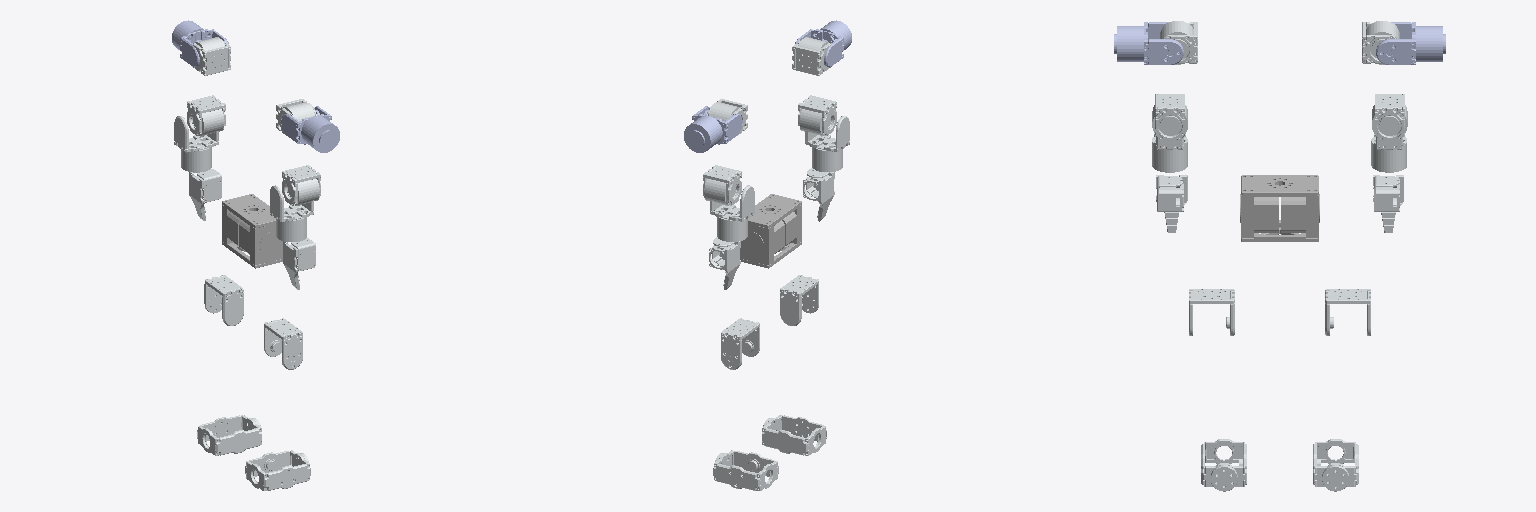
URDF robot description (hi_23dof_250401):
<?xml version="1.0" encoding="utf-8"?>
<!--
This URDF was automatically created by SolidWorks to URDF Exporter! Originally created by Stephen Brawner (brawner@gmail.com)
Commit Version: 1.6.0-4-g7f85cfe  Build Version: 1.6.7995.38578
For more information, please see http://wiki.ros.org/sw_urdf_exporter
-->
<robot name="hi_23dof_250401">
	<mujoco>
		<compiler meshdir="../meshes/" balanceinertia="true" discardvisual="false" />
	</mujoco>
	<link name="base_link">
		<inertial>
			<origin xyz="0.0259087 -0.0015142 -0.0707803" rpy="0 0 0" />
			<mass value="4.2751522" />
			<inertia ixx="0.0576049" ixy="-1.59E-05" ixz="0.0004045" iyy="0.0457651" iyz="2.6E-06" izz="0.0212488" />
		</inertial>
		<visual>
			<origin xyz="0 0 0" rpy="0 0 0" />
			<geometry>
				<mesh filename="../meshes/base_link.STL" />
			</geometry>
			<material name="">
				<color rgba="0.75294 0.75294 0.75294 1" />
			</material>
		</visual>
		<collision>
			<origin xyz="0.03 0 -0.07" rpy="0 0 0" />
			<geometry>
				<box size="0.12 0.24 0.28" />
				<!-- <mesh filename="../meshes/base_link.STL" /> -->
			</geometry>
		</collision>
	</link>

	<link name="head_link"/>
	<joint name="head_fixed_joint" type="fixed">
		<origin xyz="0 0 0.1" rpy="0 0 0" />
		<parent link="base_link" />
		<child link="head_link" />
	</joint>

<!-- waist -->
	<link name="waist_link">
		<inertial>
			<origin xyz="1.2E-06 3.4E-05 -0.049561" rpy="0 0 0" />
			<mass value="1.5958" />
			<inertia ixx="0.0027667" ixy="7.1E-06" ixz="-1E-07" iyy="0.001617" iyz="-2.6E-06" izz="0.0021703" />
		</inertial>
		<visual>
			<origin xyz="0 0 0" rpy="0 0 0" />
			<geometry>
				<mesh filename="../meshes/waist_link.STL" />
			</geometry>
			<material name="">
				<color rgba="0.75294 0.75294 0.75294 1" />
			</material>
		</visual>
		<collision>
			<origin xyz="0 0 -0.05" rpy="0 0 0" />
			<geometry>
				<box size="0.09 0.11 0.09" />
				<!-- <mesh filename="../meshes/waist_link.STL" /> -->
			</geometry>
		</collision>
	</link>
	<joint name="waist_joint" type="revolute">
		<origin xyz="-0.028589 0.0015934 0.2183" rpy="0 0 0" />
		<parent link="waist_link" />
		<child link="base_link" />
		<axis xyz="0 0 1" />
		<limit lower="-0.5" upper="0.5" effort="24" velocity="6.28" />
	</joint>
<!-- left leg -->
	<link name="l_hip_pitch_link">
		<inertial>
			<origin xyz="0.0001203 0.0399259 0" rpy="0 0 0" />
			<mass value="0.665545" />
			<inertia ixx="0.0004708" ixy="0" ixz="0" iyy="0.0004388" iyz="0" izz="0.000473" />
		</inertial>
		<visual>
			<origin xyz="0 0 0" rpy="0 0 0" />
			<geometry>
				<mesh filename="../meshes/l_hip_pitch_link.STL" />
			</geometry>
			<material name="">
				<color rgba="0.89804 0.91765 0.92941 1" />
			</material>
		</visual>
		<collision>
			<origin xyz="0 0.04 0" rpy="0 0 0" />
			<geometry>
				<box size="0.06 0.07 0.06" />
				<!-- <mesh filename="../meshes/l_hip_pitch_link.STL" /> -->
			</geometry>
		</collision>
	</link>
  	<joint name="l_hip_pitch_joint" type="revolute">
		<origin xyz="0 0.0575000000000001 -0.0553000000000014" rpy="0 0 0" />
		<parent link="waist_link" />
		<child link="l_hip_pitch_link" />
		<axis xyz="0 1 0" />
		<limit lower="-1.6" upper="1.6" effort="24" velocity="6.28" />
	</joint>
	<link name="l_hip_roll_link">
		<inertial>
			<origin xyz="-0.027804 0 -0.0756606" rpy="0 0 0" />
			<mass value="0.7871145" />
			<inertia ixx="0.0013399" ixy="0" ixz="2.98E-05" iyy="0.0015491" iyz="0" izz="0.0006846" />
		</inertial>
		<visual>
			<origin xyz="0 0 0" rpy="0 0 0" />
			<geometry>
				<mesh filename="../meshes/l_hip_roll_link.STL" />
			</geometry>
			<material name="">
				<color rgba="0.89804 0.91765 0.92941 1" />
			</material>
		</visual>
		<collision>
			<origin xyz="-0.03 0 -0.09" rpy="0 0 0" />
			<geometry>
				<box size="0.06 0.07 0.06" />
				<!-- <mesh filename="../meshes/l_hip_roll_link.STL" /> -->
			</geometry>
		</collision>
	</link>
	<joint name="l_hip_roll_joint" type="revolute">
		<origin xyz="0.02725 0.042 0" rpy="0 0 0" />
		<parent link="l_hip_pitch_link" />
		<child link="l_hip_roll_link" />
		<axis xyz="1 0 0" />
		<limit lower="-0.25" upper="0.6" effort="24" velocity="6.28" />
	</joint>
	<link name="l_thigh_link">
		<inertial>
			<origin xyz="0 -0.0018622 -0.0367228" rpy="0 0 0" />
			<mass value="0.2132463" />
			<inertia ixx="0.0003791" ixy="0" ixz="0" iyy="0.0002268" iyz="-0.0000158" izz="0.0002474" />
		</inertial>
		<visual>
			<origin xyz="0 0 0" rpy="0 0 0" />
			<geometry>
				<mesh filename="../meshes/l_thigh_link.STL" />
			</geometry>
			<material name="">
				<color rgba="0.89804 0.91765 0.92941 1" />
			</material>
		</visual>
		<collision>
			<origin xyz="0 0 -0.005" rpy="0 0 0" />
			<geometry>
				<box size="0.01 0.01 0.01" />
				<!-- <mesh filename="../meshes/l_thigh_link.STL" /> -->
			</geometry>
		</collision>
	</link>
	<joint name="l_thigh_joint" type="revolute">
		<origin xyz="-0.02725 0 -0.123" rpy="0 0 0" />
		<parent link="l_hip_roll_link" />
		<child link="l_thigh_link" />
		<axis xyz="0 0 1" />
		<limit lower="-1.2" upper="1.2" effort="24" velocity="6.28" />
	</joint>
	<link name="l_calf_link">
		<inertial>
			<origin xyz="0.0018338 -0.0030441 -0.0596583" rpy="0 0 0" />
			<mass value="1.4585536" />
			<inertia ixx="0.0055481" ixy="0.0000019" ixz="0.0001383" iyy="0.0056259" iyz="-0.0000550" izz="0.0007844" />
		</inertial>
		<visual>
			<origin xyz="0 0 0" rpy="0 0 0" />
			<geometry>
				<mesh filename="../meshes/l_calf_link.STL" />
			</geometry>
			<material name="">
				<color rgba="0.89804 0.91765 0.92941 1" />
			</material>
		</visual>
		<collision>
			<origin xyz="0 0 -0.07" rpy="0 0 0" />
			<geometry>
				<box size="0.06 0.06 0.21" />
				<!-- <mesh filename="../meshes/l_calf_link.STL" /> -->
			</geometry>
		</collision>
	</link>
	<joint name="l_calf_joint" type="revolute">
		<origin xyz="0 0.00375 -0.069" rpy="0 0 0" />
		<parent link="l_thigh_link" />
		<child link="l_calf_link" />
		<axis xyz="0 1 0" />
		<limit lower="0" upper="2.23" effort="24" velocity="6.28" />
	</joint>
	<link name="l_ankle_pitch_link">
		<inertial>
			<origin xyz="0 -0.0085004 0" rpy="0 0 0" />
			<mass value="0.0089231" />
			<inertia ixx="2E-07" ixy="0" ixz="0" iyy="1E-06" iyz="0" izz="1E-06" />
		</inertial>
		<visual>
			<origin xyz="0 0 0" rpy="0 0 0" />
			<geometry>
				<mesh filename="../meshes/l_ankle_pitch_link.STL" />
			</geometry>
			<material name="">
				<color rgba="0.89804 0.91765 0.92941 1" />
			</material>
		</visual>
		<collision>
			<origin xyz="0 0 0" rpy="0 0 0" />
			<geometry>
				<box size="0.01 0.01 0.01" />
				<!-- <mesh filename="../meshes/l_ankle_pitch_link.STL" /> -->
			</geometry>
		</collision>
	</link>
	<joint name="l_ankle_pitch_joint" type="revolute">
		<origin xyz="0 0.00475 -0.2" rpy="0 0 0" />
		<parent link="l_calf_link" />
		<child link="l_ankle_pitch_link" />
		<axis xyz="0 1 0" />
		<limit lower="-1" upper="0.75" effort="24" velocity="6.28" />
	</joint>
	<link name="l_ankle_roll_link">
		<inertial>
			<origin xyz="0.002161 1.16E-05 -0.0230112" rpy="0 0 0" />
			<mass value="0.4035208" />
			<inertia ixx="0.0002216" ixy="8E-07" ixz="1.62E-05" iyy="0.0009975" iyz="0" izz="0.0011866" />
		</inertial>
		<visual>
			<origin xyz="0 0 0" rpy="0 0 0" />
			<geometry>
				<mesh filename="../meshes/l_ankle_roll_link.STL" />
			</geometry>
			<material name="">
				<color rgba="0.79216 0.81961 0.93333 1" />
			</material>
		</visual>
		<collision>
			<origin xyz="0 0 0" rpy="0 0 0" />
			<geometry>
				<mesh filename="../meshes/l_ankle_roll_link.STL" />
			</geometry>
		</collision>
	</link>
	<joint name="l_ankle_roll_joint" type="revolute">
		<origin xyz="0.015125 -0.0085 0" rpy="0 0 0" />
		<parent link="l_ankle_pitch_link" />
		<child link="l_ankle_roll_link" />
		<axis xyz="1 0 0" />
		<limit lower="-0.8" upper="0.8" effort="24" velocity="6.28" />
	</joint>
<!-- right leg -->
	<link name="r_hip_pitch_link">
		<inertial>
			<origin xyz="0.0001203 -0.039926 0" rpy="0 0 0" />
			<mass value="0.66555" />
			<inertia ixx="0.0004708" ixy="0" ixz="0" iyy="0.0004388" iyz="0" izz="0.000473" />
		</inertial>
		<visual>
			<origin xyz="0 0 0" rpy="0 0 0" />
			<geometry>
				<mesh filename="../meshes/r_hip_pitch_link.STL" />
			</geometry>
			<material name="">
				<color rgba="0.79216 0.81961 0.93333 1" />
			</material>
		</visual>
		<collision>
			<origin xyz="0 -0.04 0" rpy="0 0 0" />
			<geometry>
				<box size="0.06 0.07 0.06" />
				<!-- <mesh filename="../meshes/r_hip_pitch_link.STL" /> -->
			</geometry>
		</collision>
	</link>
  	<joint name="r_hip_pitch_joint" type="revolute">
		<origin xyz="0 -0.0575 -0.0553000000000005" rpy="0 0 0" />
		<parent link="waist_link" />
		<child link="r_hip_pitch_link" />
		<axis xyz="0 1 0" />
		<limit lower="-1.6" upper="1.6" effort="24" velocity="6.28" />
	</joint>
	<link name="r_hip_roll_link">
		<inertial>
			<origin xyz="-0.027804 0 -0.0756606" rpy="0 0 0" />
			<mass value="0.7871145" />
			<inertia ixx="0.0013399" ixy="0" ixz="2.98E-05" iyy="0.0015491" iyz="0" izz="0.0006846" />
		</inertial>
		<visual>
			<origin xyz="0 0 0" rpy="0 0 0" />
			<geometry>
				<mesh filename="../meshes/r_hip_roll_link.STL" />
			</geometry>
			<material name="">
				<color rgba="0.89804 0.91765 0.92941 1" />
			</material>
		</visual>
		<collision>
			<origin xyz="-0.03 0 -0.09" rpy="0 0 0" />
			<geometry>
				<box size="0.06 0.07 0.06" />
				<!-- <mesh filename="../meshes/r_hip_roll_link.STL" /> -->
			</geometry>
		</collision>
	</link>
	<joint name="r_hip_roll_joint" type="revolute">
		<origin xyz="0.02725 -0.042 0" rpy="0 0 0" />
		<parent link="r_hip_pitch_link" />
		<child link="r_hip_roll_link" />
		<axis xyz="1 0 0" />
		<limit lower="-0.6" upper="0.25" effort="24" velocity="6.28" />
	</joint>
	<link name="r_thigh_link">
		<inertial>
			<origin xyz="0 0.0018622 -0.0367228" rpy="0 0 0" />
			<mass value="0.2132463" />
			<inertia ixx="0.0003791" ixy="0" ixz="0" iyy="0.0002268" iyz="0.0000158" izz="0.0002474" />
		</inertial>
		<visual>
			<origin xyz="0 0 0" rpy="0 0 0" />
			<geometry>
				<mesh filename="../meshes/r_thigh_link.STL" />
			</geometry>
			<material name="">
				<color rgba="0.89804 0.91765 0.92941 1" />
			</material>
		</visual>
		<collision>
			<origin xyz="0 0 -0.005" rpy="0 0 0" />
			<geometry>
				<box size="0.01 0.01 0.01" />
				<!-- <mesh filename="../meshes/r_thigh_link.STL" /> -->
			</geometry>
		</collision>
	</link>
	<joint name="r_thigh_joint" type="revolute">
		<origin xyz="-0.02725 0 -0.123" rpy="0 0 0" />
		<parent link="r_hip_roll_link" />
		<child link="r_thigh_link" />
		<axis xyz="0 0 1" />
		<limit lower="-1.2" upper="1.2" effort="24" velocity="6.28" />
	</joint>
	<link name="r_calf_link">
		<inertial>
			<origin xyz="0.0018341 0.0030218 -0.0596584" rpy="0 0 0" />
			<mass value="1.4585564" />
			<inertia ixx="0.0055481" ixy="-0.0000020" ixz="0.0001382" iyy="0.0056259" iyz="0.0000527" izz="0.0007844" />
		</inertial>
		<visual>
			<origin xyz="0 0 0" rpy="0 0 0" />
			<geometry>
				<mesh filename="../meshes/r_calf_link.STL" />
			</geometry>
			<material name="">
				<color rgba="0.89804 0.91765 0.92941 1" />
			</material>
		</visual>
		<collision>
			<origin xyz="0 0 -0.07" rpy="0 0 0" />
			<geometry>
				<box size="0.06 0.06 0.21" />
				<!-- <mesh filename="../meshes/r_calf_link.STL" /> -->
			</geometry>
		</collision>
	</link>
	<joint name="r_calf_joint" type="revolute">
		<origin xyz="0 -0.00375 -0.069" rpy="0 0 0" />
		<parent link="r_thigh_link" />
		<child link="r_calf_link" />
		<axis xyz="0 1 0" />
		<limit lower="0" upper="2.23" effort="24" velocity="6.28" />
	</joint>
	<link name="r_ankle_pitch_link">
		<inertial>
			<origin xyz="0 0.0084996 0" rpy="0 0 0" />
			<mass value="0.0089231" />
			<inertia ixx="2E-07" ixy="0" ixz="0" iyy="1E-06" iyz="0" izz="1E-06" />
		</inertial>
		<visual>
			<origin xyz="0 0 0" rpy="0 0 0" />
			<geometry>
				<mesh filename="../meshes/r_ankle_pitch_link.STL" />
			</geometry>
			<material name="">
				<color rgba="0.89804 0.91765 0.92941 1" />
			</material>
		</visual>
		<collision>
			<origin xyz="0 0 0" rpy="0 0 0" />
			<geometry>
				<box size="0.01 0.01 0.01" />
				<!-- <mesh filename="../meshes/r_ankle_pitch_link.STL" /> -->
			</geometry>
		</collision>
	</link>
	<joint name="r_ankle_pitch_joint" type="revolute">
		<origin xyz="0 -0.00475 -0.2" rpy="0 0 0" />
		<parent link="r_calf_link" />
		<child link="r_ankle_pitch_link" />
		<axis xyz="0 1 0" />
		<limit lower="-1" upper="0.75" effort="24" velocity="6.28" />
	</joint>
	<link name="r_ankle_roll_link">
		<inertial>
			<origin xyz="0.002168 4.3E-06 -0.0230112" rpy="0 0 0" />
			<mass value="0.4035208" />
			<inertia ixx="0.0002216" ixy="2E-07" ixz="1.62E-05" iyy="0.0009975" iyz="0" izz="0.0011866" />
		</inertial>
		<visual>
			<origin xyz="0 0 0" rpy="0 0 0" />
			<geometry>
				<mesh filename="../meshes/r_ankle_roll_link.STL" />
			</geometry>
			<material name="">
				<color rgba="0.89804 0.91765 0.92941 1" />
			</material>
		</visual>
		<collision>
			<origin xyz="0 0 0" rpy="0 0 0" />
			<geometry>
				<mesh filename="../meshes/r_ankle_roll_link.STL" />
			</geometry>
		</collision>
	</link>
	<joint name="r_ankle_roll_joint" type="revolute">
		<origin xyz="0.015125 0.0085 0" rpy="0 0 0" />
		<parent link="r_ankle_pitch_link" />
		<child link="r_ankle_roll_link" />
		<axis xyz="1 0 0" />
		<limit lower="-0.8" upper="0.8" effort="24" velocity="6.28" />
	</joint>
<!-- left arm -->
	<link name="l_shoulder_pitch_link">
		<inertial>
			<origin xyz="0.0008423 0.032655 -1.71E-05" rpy="0 0 0" />
			<mass value="0.31428" />
			<inertia ixx="0.0001801" ixy="-2.6E-06" ixz="0" iyy="0.0001495" iyz="-2E-07" izz="0.0001989" />
		</inertial>
		<visual>
			<origin xyz="0 0 0" rpy="0 0 0" />
			<geometry>
				<mesh filename="../meshes/l_shoulder_pitch_link.STL" />
			</geometry>
			<material name="">
				<color rgba="0.89804 0.91765 0.92941 1" />
			</material>
		</visual>
		<collision>
			<origin xyz="0 0.04 0" rpy="0 0 0" />
			<geometry>
				<box size="0.05 0.05 0.05" />
				<!-- <mesh filename="../meshes/l_shoulder_pitch_link.STL" /> -->
			</geometry>
		</collision>
	</link>
	<joint name="l_shoulder_pitch_joint" type="revolute">
		<origin xyz="0.028589 0.11796 0.0077" rpy="0 0 0" />
		<parent link="base_link" />
		<child link="l_shoulder_pitch_link" />
		<axis xyz="0 1 0" />
		<limit lower="-3.14" upper="3.14" effort="17" velocity="6.28" />
	</joint>
	<link name="l_shoulder_roll_link">
		<inertial>
			<origin xyz="-0.0206921 0 -0.0556139" rpy="0 0 0" />
			<mass value="0.2830876" />
			<inertia ixx="0.000276" ixy="0" ixz="-2.75E-05" iyy="0.0003344" iyz="0" izz="0.0001742" />
		</inertial>
		<visual>
			<origin xyz="0 0 0" rpy="0 0 0" />
			<geometry>
				<mesh filename="../meshes/l_shoulder_roll_link.STL" />
			</geometry>
			<material name="">
				<color rgba="0.79216 0.81961 0.93333 1" />
			</material>
		</visual>
		<collision>
			<origin xyz="-0.025 0 -0.067" rpy="0 0 0" />
			<geometry>
				<box size="0.05 0.05 0.05" />
				<!-- <mesh filename="../meshes/l_shoulder_roll_link.STL" /> -->
			</geometry>
		</collision>
	</link>
	<joint name="l_shoulder_roll_joint" type="revolute">
		<origin xyz="0.02325 0.04 0" rpy="0 0 0" />
		<parent link="l_shoulder_pitch_link" />
		<child link="l_shoulder_roll_link" />
		<axis xyz="1 0 0" />
		<limit lower="-3.14" upper="3.14" effort="17" velocity="6.28" />
	</joint>
	<link name="l_upper_arm_link">
		<inertial>
			<origin xyz="0.0009891 0 -0.0297051" rpy="0 0 0" />
			<mass value="0.285277" />
			<inertia ixx="0.0001467" ixy="0" ixz="1.2E-06" iyy="0.0001622" iyz="0" izz="0.0001363" />
		</inertial>
		<visual>
			<origin xyz="0 0 0" rpy="0 0 0" />
			<geometry>
				<mesh filename="../meshes/l_upper_arm_link.STL" />
			</geometry>
			<material name="">
				<color rgba="0.89804 0.91765 0.92941 1" />
			</material>
		</visual>
		<collision>
			<origin xyz="0 0 -0.027" rpy="0 0 0" />
			<geometry>
				<box size="0.05 0.05 0.05" />
				<!-- <mesh filename="../meshes/l_upper arm_link.STL" /> -->
			</geometry>
		</collision>
	</link>
	<joint name="l_upper_arm_joint" type="revolute">
		<origin xyz="-0.023 0 -0.0935" rpy="0 0 1.5707513" />
		<parent link="l_shoulder_roll_link" />
		<child link="l_upper_arm_link" />
		<axis xyz="0 0 1" />
		<limit lower="-1.8" upper="1.8" effort="17" velocity="6.28" />
	</joint>
	<link name="l_elbow_link">
		<inertial>
			<origin xyz="0.0030579 0 -0.055614" rpy="0 0 0" />
			<mass value="0.28309" />
			<inertia ixx="0.000276" ixy="0" ixz="-2.75E-05" iyy="0.0003344" iyz="0" izz="0.0001742" />
		</inertial>
		<visual>
			<origin xyz="0 0 0" rpy="0 0 0" />
			<geometry>
				<mesh filename="../meshes/l_elbow_link.STL" />
			</geometry>
			<material name="">
				<color rgba="0.89804 0.91765 0.92941 1" />
			</material>
		</visual>
		<collision>
			<origin xyz="0 0 -0.067" rpy="0 0 0" />
			<geometry>
				<box size="0.05 0.05 0.05" />
				<!-- <mesh filename="../meshes/l_elbow_link.STL" /> -->
			</geometry>
		</collision>
	</link>
	<joint name="l_elbow_joint" type="revolute">
		<origin xyz="-0.0005 0 -0.034" rpy="0 0 0" />
		<parent link="l_upper_arm_link" />
		<child link="l_elbow_link" />
		<axis xyz="1 0 0" />
		<limit lower="-1" upper="1" effort="17" velocity="6.28" />
	</joint>
	<link name="l_wrist_link">
		<inertial>
			<origin xyz="0 0 -0.0275477" rpy="0 0 0" />
			<mass value="0.0564393" />
			<inertia ixx="2.85E-05" ixy="0" ixz="0" iyy="2.85E-05" iyz="0" izz="6.3E-06" />
		</inertial>
		<visual>
			<origin xyz="0 0 0" rpy="0 0 0" />
			<geometry>
				<mesh filename="../meshes/l_wrist_link.STL" />
			</geometry>
			<material name="">
				<color rgba="0.89804 0.91765 0.92941 1" />
			</material>
		</visual>
		<collision>
			<origin xyz="0 0 -0.035" rpy="0 0 0" />
			<geometry>
				<box size="0.02 0.02 0.07" />
				<!-- <mesh filename="../meshes/l_wrist_link.STL" /> -->
			</geometry>
		</collision>
	</link>
	<joint name="l_wrist_joint" type="revolute">
		<origin xyz="0.00075 0 -0.0935" rpy="0 0 0" />
		<parent link="l_elbow_link" />
		<child link="l_wrist_link" />
		<axis xyz="0 0 1" />
		<limit lower="-3.14" upper="3.14" effort="17" velocity="6.28" />
	</joint>
	<link name="left_hand_link"/>
	<joint name="left_hand_fixed_joint" type="fixed">
		<origin xyz="0 0 -0.05" rpy="0 0 0" />
		<parent link="l_wrist_link" />
		<child link="left_hand_link" />
	</joint>

<!-- right arm -->
	<link name="r_shoulder_pitch_link">
		<inertial>
			<origin xyz="0.0008423 -0.032655 1.71E-05" rpy="0 0 0" />
			<mass value="0.31428" />
			<inertia ixx="0.0001801" ixy="2.6E-06" ixz="0" iyy="0.0001495" iyz="-2E-07" izz="0.0001989" />
		</inertial>
		<visual>
			<origin xyz="0 0 0" rpy="0 0 0" />
			<geometry>
				<mesh filename="../meshes/r_shoulder_pitch_link.STL" />
			</geometry>
			<material name="">
				<color rgba="0.89804 0.91765 0.92941 1" />
			</material>
		</visual>
		<collision>
			<origin xyz="0 -0.04 0" rpy="0 0 0" />
			<geometry>
				<box size="0.05 0.05 0.05" />
				<!-- <mesh filename="../meshes/r_shoulder_pitch_link.STL" /> -->
			</geometry>
		</collision>
	</link>
	<joint name="r_shoulder_pitch_joint" type="revolute">
		<origin xyz="0.028589 -0.12114 0.0077" rpy="0 0 0" />
		<parent link="base_link" />
		<child link="r_shoulder_pitch_link" />
		<axis xyz="0 1 0" />
		<limit lower="-3.14" upper="3.14" effort="17" velocity="6.28" />
	</joint>
	<link name="r_shoulder_roll_link">
		<inertial>
			<origin xyz="-0.0206921 0 -0.0556139" rpy="0 0 0" />
			<mass value="0.2830876" />
			<inertia ixx="0.000276" ixy="0" ixz="-2.75E-05" iyy="0.0003344" iyz="0" izz="0.0001742" />
		</inertial>
		<visual>
			<origin xyz="0 0 0" rpy="0 0 0" />
			<geometry>
				<mesh filename="../meshes/r_shoulder_roll_link.STL" />
			</geometry>
			<material name="">
				<color rgba="0.79216 0.81961 0.93333 1" />
			</material>
		</visual>
		<collision>
			<origin xyz="-0.025 0 -0.067" rpy="0 0 0" />
			<geometry>
				<box size="0.05 0.05 0.05" />
				<!-- <mesh filename="../meshes/r_shoulder_roll_link.STL" /> -->
			</geometry>
		</collision>
	</link>
	<joint name="r_shoulder_roll_joint" type="revolute">
		<origin xyz="0.02325 -0.04 0" rpy="0 0 0" />
		<parent link="r_shoulder_pitch_link" />
		<child link="r_shoulder_roll_link" />
		<axis xyz="1 0 0" />
		<limit lower="-3.14" upper="3.14" effort="17" velocity="6.28" />
	</joint>
	<link name="r_upper_arm_link">
		<inertial>
			<origin xyz="0.0009891 0 -0.0297051" rpy="0 0 0" />
			<mass value="0.285277" />
			<inertia ixx="0.0001467" ixy="0" ixz="1.2E-06" iyy="0.0001622" iyz="0" izz="0.0001363" />
		</inertial>
		<visual>
			<origin xyz="0 0 0" rpy="0 0 0" />
			<geometry>
				<mesh filename="../meshes/r_upper_arm_link.STL" />
			</geometry>
			<material name="">
				<color rgba="0.89804 0.91765 0.92941 1" />
			</material>
		</visual>
		<collision>
			<origin xyz="0 0 -0.027" rpy="0 0 0" />
			<geometry>
				<box size="0.05 0.05 0.05" />
				<!-- <mesh filename="../meshes/r_upper arm_link.STL" /> -->
			</geometry>
		</collision>
	</link>
	<joint name="r_upper_arm_joint" type="revolute">
		<origin xyz="-0.023 0 -0.0935" rpy="0 0 1.5707513" />
		<parent link="r_shoulder_roll_link" />
		<child link="r_upper_arm_link" />
		<axis xyz="0 0 1" />
		<limit lower="-1.8" upper="1.8" effort="17" velocity="6.28" />
	</joint>
	<link name="r_elbow_link">
		<inertial>
			<origin xyz="0.0030579 0 -0.0556139" rpy="0 0 0" />
			<mass value="0.2830876" />
			<inertia ixx="0.000276" ixy="0" ixz="-2.75E-05" iyy="0.0003344" iyz="0" izz="0.0001742" />
		</inertial>
		<visual>
			<origin xyz="0 0 0" rpy="0 0 0" />
			<geometry>
				<mesh filename="../meshes/r_elbow_link.STL" />
			</geometry>
			<material name="">
				<color rgba="0.89804 0.91765 0.92941 1" />
			</material>
		</visual>
		<collision>
			<origin xyz="0 0 -0.067" rpy="0 0 0" />
			<geometry>
				<box size="0.05 0.05 0.05" />
				<!-- <mesh filename="../meshes/r_elbow_link.STL" /> -->
			</geometry>
		</collision>
	</link>
	<joint name="r_elbow_joint" type="revolute">
		<origin xyz="-0.0005 0 -0.034" rpy="0 0 0" />
		<parent link="r_upper_arm_link" />
		<child link="r_elbow_link" />
		<axis xyz="1 0 0" />
		<limit lower="-1" upper="1" effort="17" velocity="6.28" />
	</joint>
	<link name="r_wrist_link">
		<inertial>
			<origin xyz="0 0 -0.0275477" rpy="0 0 0" />
			<mass value="0.0564393" />
			<inertia ixx="2.85E-05" ixy="0" ixz="0" iyy="2.85E-05" iyz="0" izz="6.3E-06" />
		</inertial>
		<visual>
			<origin xyz="0 0 0" rpy="0 0 0" />
			<geometry>
				<mesh filename="../meshes/r_wrist_link.STL" />
			</geometry>
			<material name="">
				<color rgba="0.89804 0.91765 0.92941 1" />
			</material>
		</visual>
		<collision>
			<origin xyz="0 0 -0.035" rpy="0 0 0" />
			<geometry>
				<box size="0.02 0.02 0.07" />
				<!-- <mesh filename="../meshes/r_wrist_link.STL" /> -->
			</geometry>
		</collision>
	</link>
	<joint name="r_wrist_joint" type="revolute">
		<origin xyz="0.00075 0 -0.0935" rpy="0 0 0" />
		<parent link="r_elbow_link" />
		<child link="r_wrist_link" />
		<axis xyz="0 0 1" />
		<limit lower="-3.14" upper="3.14" effort="17" velocity="6.28" />
	</joint>
	<link name="right_hand_link"/>
	<joint name="right_hand_fixed_joint" type="fixed">
		<origin xyz="0 0 -0.05" rpy="0 0 0" />
		<parent link="r_wrist_link" />
		<child link="right_hand_link" />
	</joint>

</robot>

--- Render facts (derived) ---
The picture shows the robot from 3 angles, left to right: view 1: azimuth 30°, elevation 25°; view 2: azimuth 150°, elevation 25°; view 3: azimuth 270°, elevation 25°; orthographic projection.
Model hi_23dof_250401 with 27 links and 26 joints (23 revolute, 3 fixed), rooted at waist_link, posed every joint at zero.
Visible links, largest first — view 1: waist_link, r_ankle_pitch_link, l_ankle_pitch_link, r_shoulder_roll_link, l_thigh_link, l_elbow_link, r_thigh_link, r_elbow_link, r_upper_arm_link, l_upper_arm_link, l_shoulder_roll_link, l_wrist_link (+3 smaller); view 2: waist_link, l_ankle_pitch_link, r_ankle_pitch_link, l_shoulder_roll_link, l_thigh_link, r_thigh_link, l_elbow_link, r_elbow_link, l_upper_arm_link, r_upper_arm_link, r_shoulder_roll_link, r_shoulder_pitch_link (+3 smaller); view 3: waist_link, l_shoulder_roll_link, r_shoulder_roll_link, l_ankle_pitch_link, r_ankle_pitch_link, r_upper_arm_link, l_upper_arm_link, r_wrist_link, l_wrist_link, r_elbow_link, l_elbow_link, l_shoulder_pitch_link (+3 smaller).
Boxes of the visible links, box(x1,y1,x2,y2) form: waist_link: box(222, 194, 282, 268); r_ankle_pitch_link: box(245, 450, 310, 490); l_ankle_pitch_link: box(197, 415, 261, 455); r_shoulder_roll_link: box(281, 106, 339, 152); l_thigh_link: box(204, 275, 243, 325); l_elbow_link: box(174, 116, 218, 172); r_thigh_link: box(264, 318, 302, 369); r_elbow_link: box(270, 185, 313, 241); r_upper_arm_link: box(282, 165, 320, 205); l_upper_arm_link: box(187, 95, 225, 135); l_shoulder_roll_link: box(172, 20, 230, 67); l_wrist_link: box(189, 169, 221, 220); waist_link: box(740, 194, 801, 268); l_ankle_pitch_link: box(713, 450, 778, 490); r_ankle_pitch_link: box(762, 415, 826, 455); l_shoulder_roll_link: box(684, 106, 742, 152); l_thigh_link: box(721, 318, 759, 369); r_thigh_link: box(780, 275, 818, 325); l_elbow_link: box(710, 185, 754, 241); r_elbow_link: box(805, 116, 849, 171); l_upper_arm_link: box(703, 165, 741, 205); r_upper_arm_link: box(798, 95, 836, 135); r_shoulder_roll_link: box(793, 20, 851, 67); r_shoulder_pitch_link: box(792, 37, 830, 75); waist_link: box(1240, 175, 1319, 241); l_shoulder_roll_link: box(1376, 22, 1445, 64); r_shoulder_roll_link: box(1114, 22, 1183, 64); l_ankle_pitch_link: box(1313, 439, 1358, 491); r_ankle_pitch_link: box(1201, 439, 1246, 491); r_upper_arm_link: box(1152, 94, 1187, 140); l_upper_arm_link: box(1372, 94, 1407, 140); r_wrist_link: box(1156, 175, 1187, 232); l_wrist_link: box(1373, 175, 1403, 232); r_elbow_link: box(1152, 133, 1187, 172); l_elbow_link: box(1371, 134, 1406, 172); l_shoulder_pitch_link: box(1362, 21, 1399, 64).
Bounding box of the posed robot: 0.1027 × 0.4819 × 0.7229 m (x, y, z).
Meshes: 24 distinct files referenced, 15 mesh visuals loaded (15 binary STL); not drawn: 9 (reference not matched to a file when rendering).
